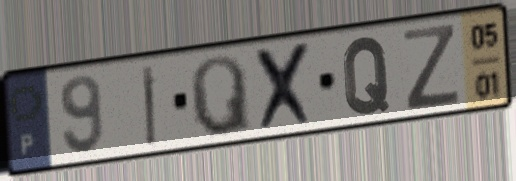9: (58, 73, 105, 157)
I: (139, 62, 159, 149)
Q: (186, 52, 255, 139), (340, 34, 392, 118)
X: (251, 38, 319, 135)
Z: (401, 21, 461, 114)
